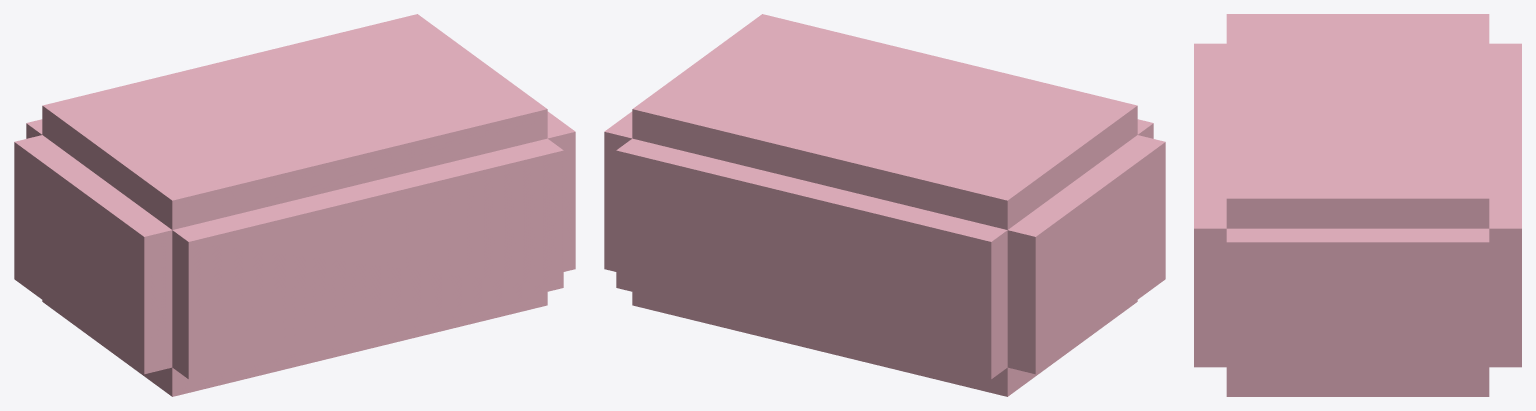
Rendered from yoga_block.glb.
The picture shows the model from 3 angles, left to right: view 1: azimuth 30°, elevation 25°; view 2: azimuth 150°, elevation 25°; view 3: azimuth 270°, elevation 25°; orthographic projection.
Visible parts, largest first — view 1: yoga_block; view 2: yoga_block; view 3: yoga_block.
Boxes of the visible parts, <box> form: yoga_block: <box>14,14,575,396</box>; yoga_block: <box>604,14,1165,396</box>; yoga_block: <box>1194,14,1521,396</box>.
Bounding box in the file's own units: 0.23 × 0.1 × 0.15.
